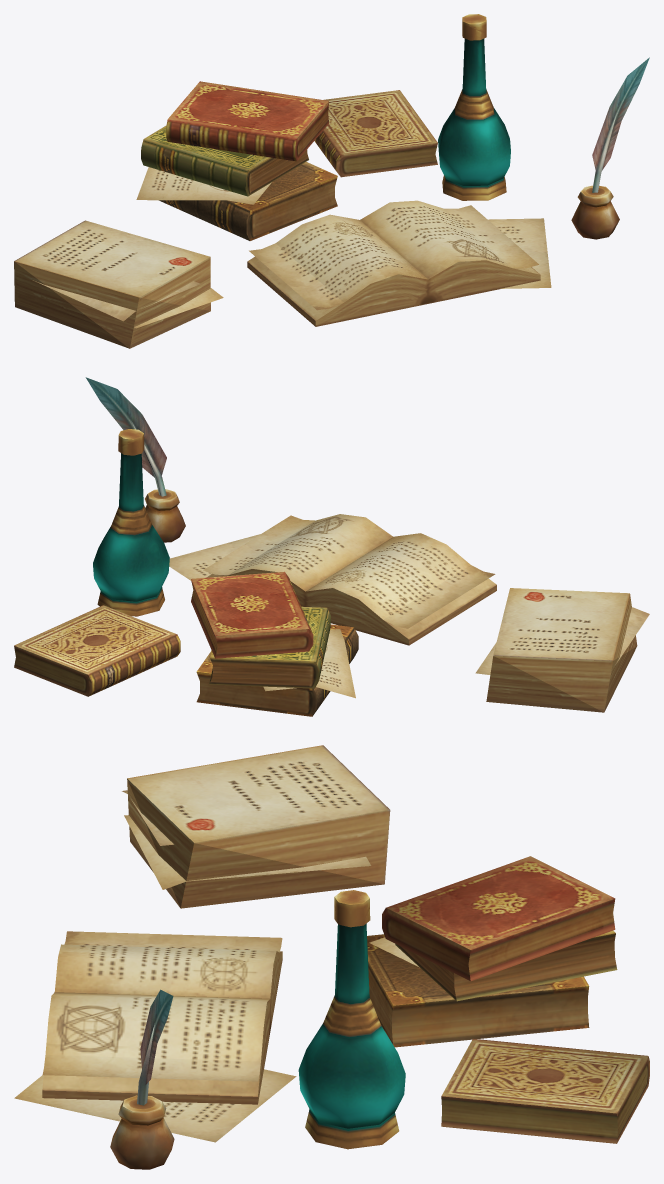
File: Table_Preset_03.FBX
3 views of the same model, one above another, from view 1: azimuth 30°, elevation 25°; view 2: azimuth 150°, elevation 25°; view 3: azimuth 270°, elevation 25° (orthographic). The views are drawn at different scales.
Parts seen in each view (by area): view 1: Table_Preset_03; view 2: Table_Preset_03; view 3: Table_Preset_03.
Boxes of the visible parts, bbox=[...] form: Table_Preset_03: bbox=[14, 14, 649, 348]; Table_Preset_03: bbox=[14, 377, 649, 716]; Table_Preset_03: bbox=[14, 745, 649, 1169].
Size of the model in its own units: 143 by 97.85 by 39.67.
